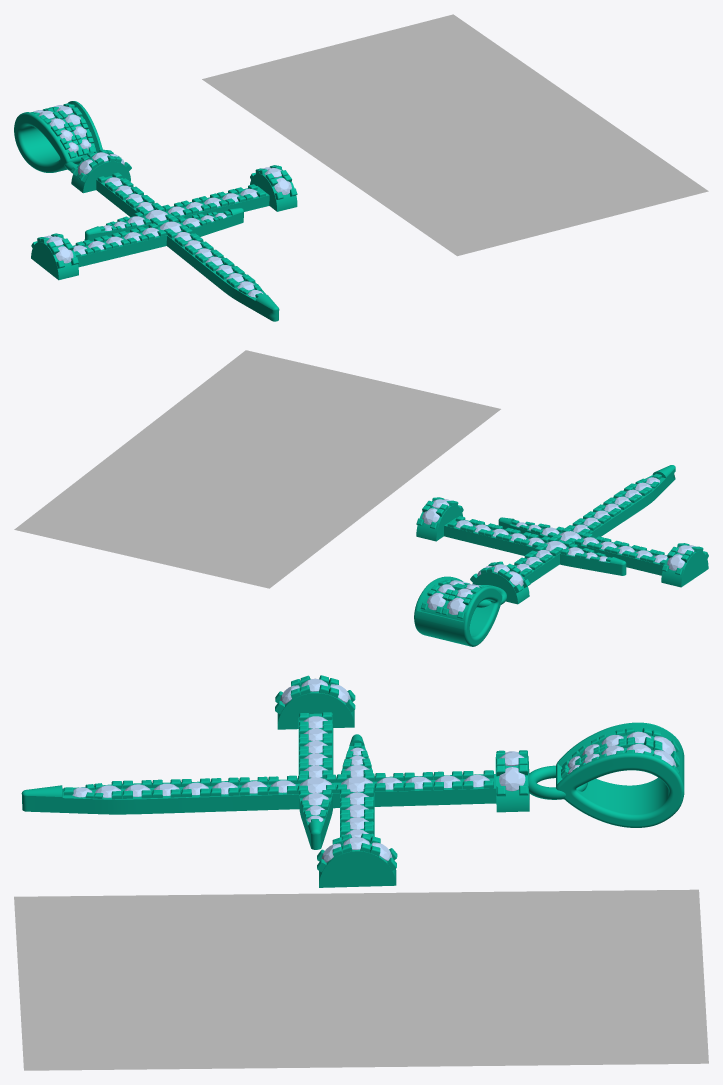
3 views of the same model, one above another, from view 1: azimuth 30°, elevation 25°; view 2: azimuth 150°, elevation 25°; view 3: azimuth 270°, elevation 25° (orthographic). The views are drawn at different scales.
Parts seen in each view (by area): view 1: P1123(base).3dm; view 2: P1123(base).3dm; view 3: P1123(base).3dm.
Part boxes in pixels (<box>): P1123(base).3dm: <box>14,14,708,321</box>; P1123(base).3dm: <box>14,350,708,646</box>; P1123(base).3dm: <box>14,675,708,1070</box>.
Size of the model in its own units: 4.61 by 0.4199 by 3.55.
